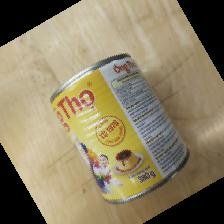Ong_tho: (48, 53, 191, 204)
